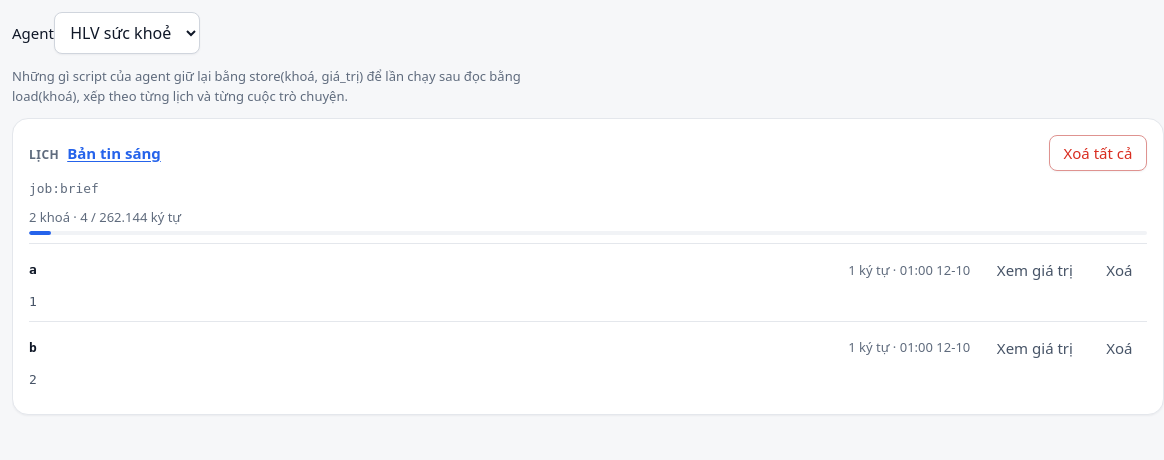
it: while the list is read again for the question › a read the server refuses is said under the namespace, asks nothing, and the next press asks
Click the button "Xoá tất cả": {"x": 1098, "y": 153} [1049,135,1147,171]
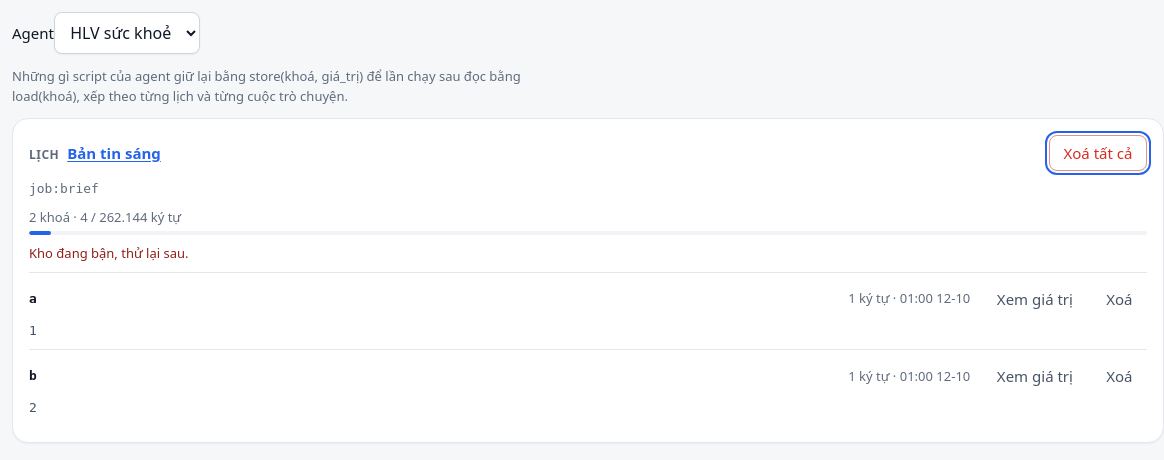
Result: the message reads "Kho đang bận, thử lại sau." at [29,244,188,262]
Result: the number of messages is 1 at [29,244,188,262]
Click the button "Xoá tất cả": {"x": 1098, "y": 153} [1049,135,1147,171]
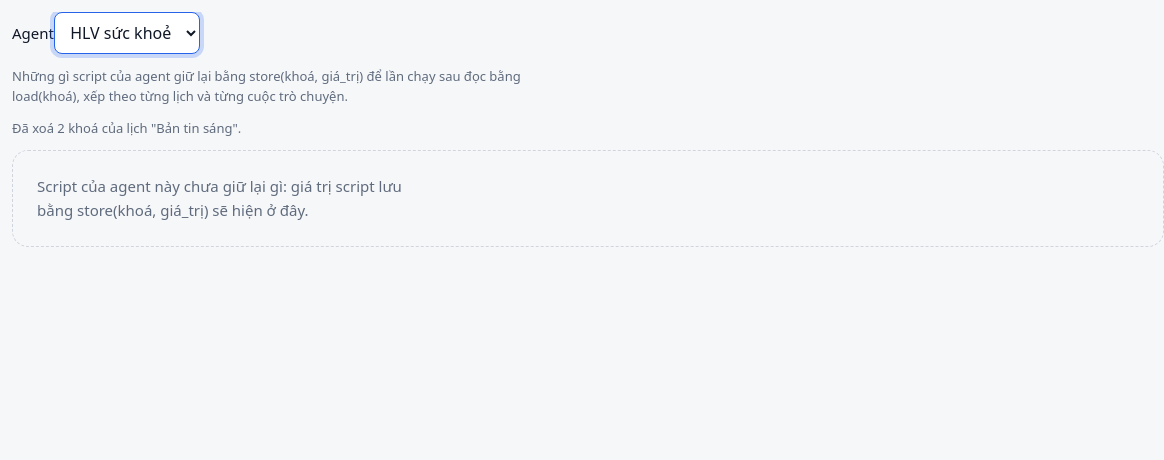
Result: the element with test id "empty-state" is shown at [12,150,1163,247]
